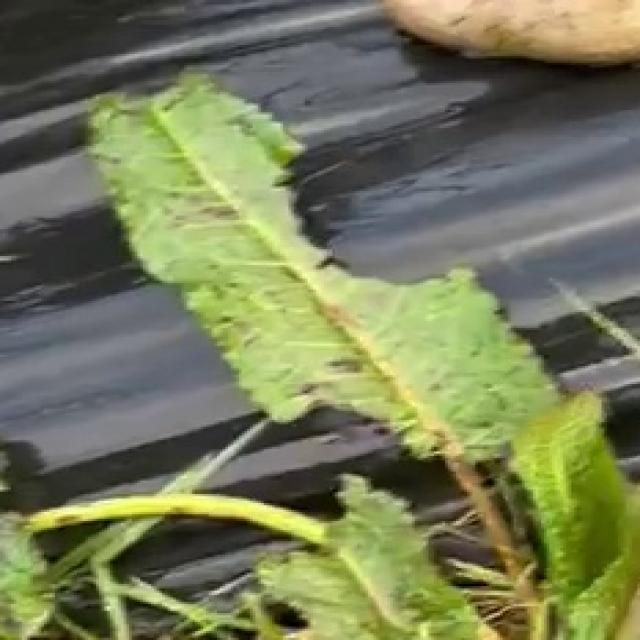organic waste: (55, 52, 623, 495)
